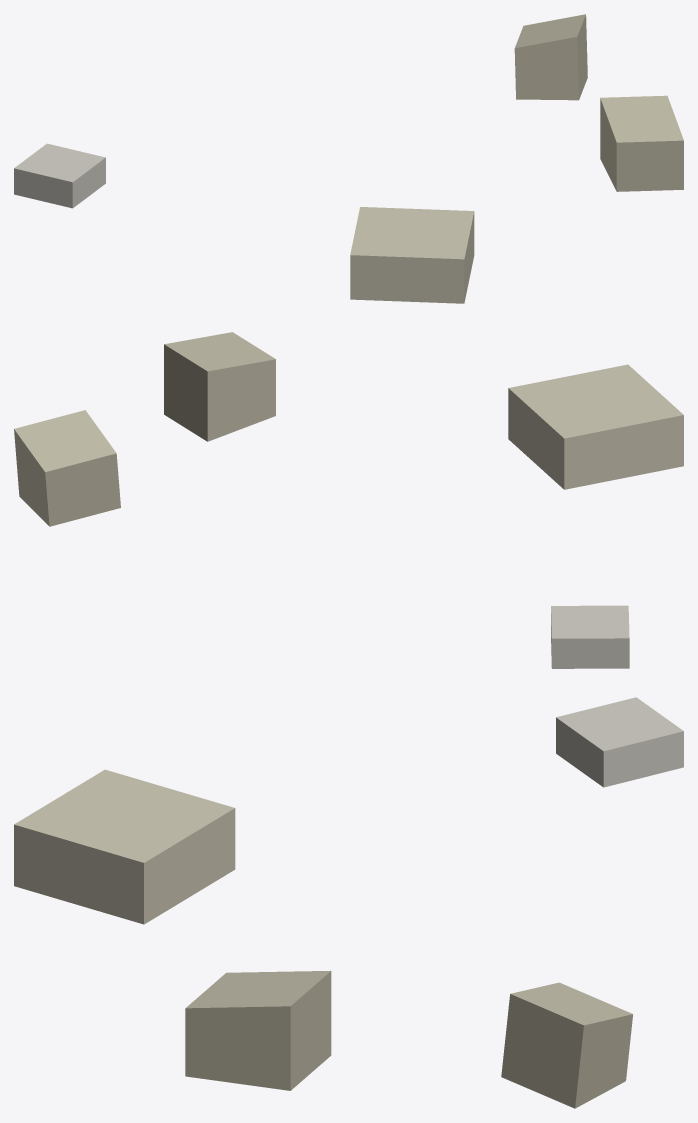
File: Rocks_Square_s_02.fbx
3 views of the same model, one above another, from view 1: azimuth 30°, elevation 25°; view 2: azimuth 150°, elevation 25°; view 3: azimuth 270°, elevation 25° (orthographic). The views are drawn at different scales.
Visible parts, largest first — view 1: Rocks_Square_s_02; view 2: Rocks_Square_s_02; view 3: Rocks_Square_s_02.
Part boxes in pixels (box(x1,y1,x2,y2)): Rocks_Square_s_02: box(14, 14, 683, 303); Rocks_Square_s_02: box(14, 332, 683, 668); Rocks_Square_s_02: box(14, 697, 683, 1108).
Size of the model in its own units: 61.38 by 7.23 by 46.46.
